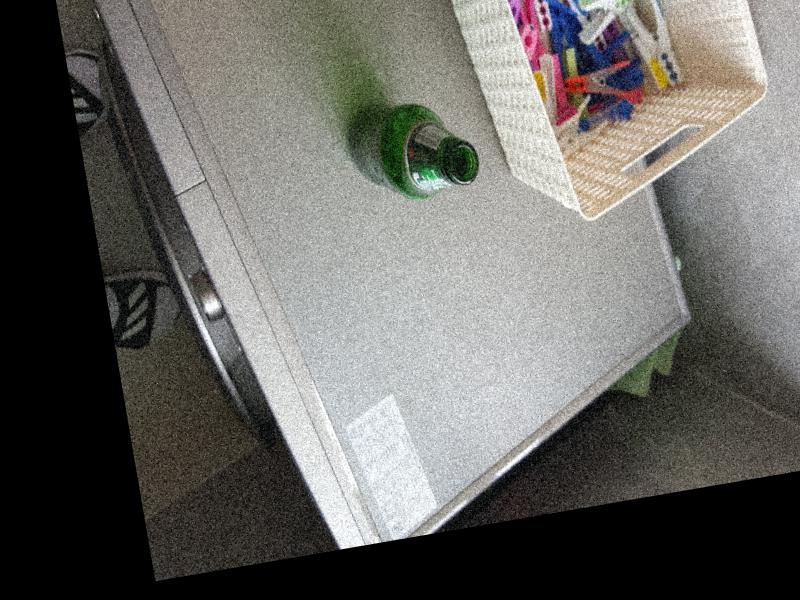Beer: (341, 91, 480, 204)
